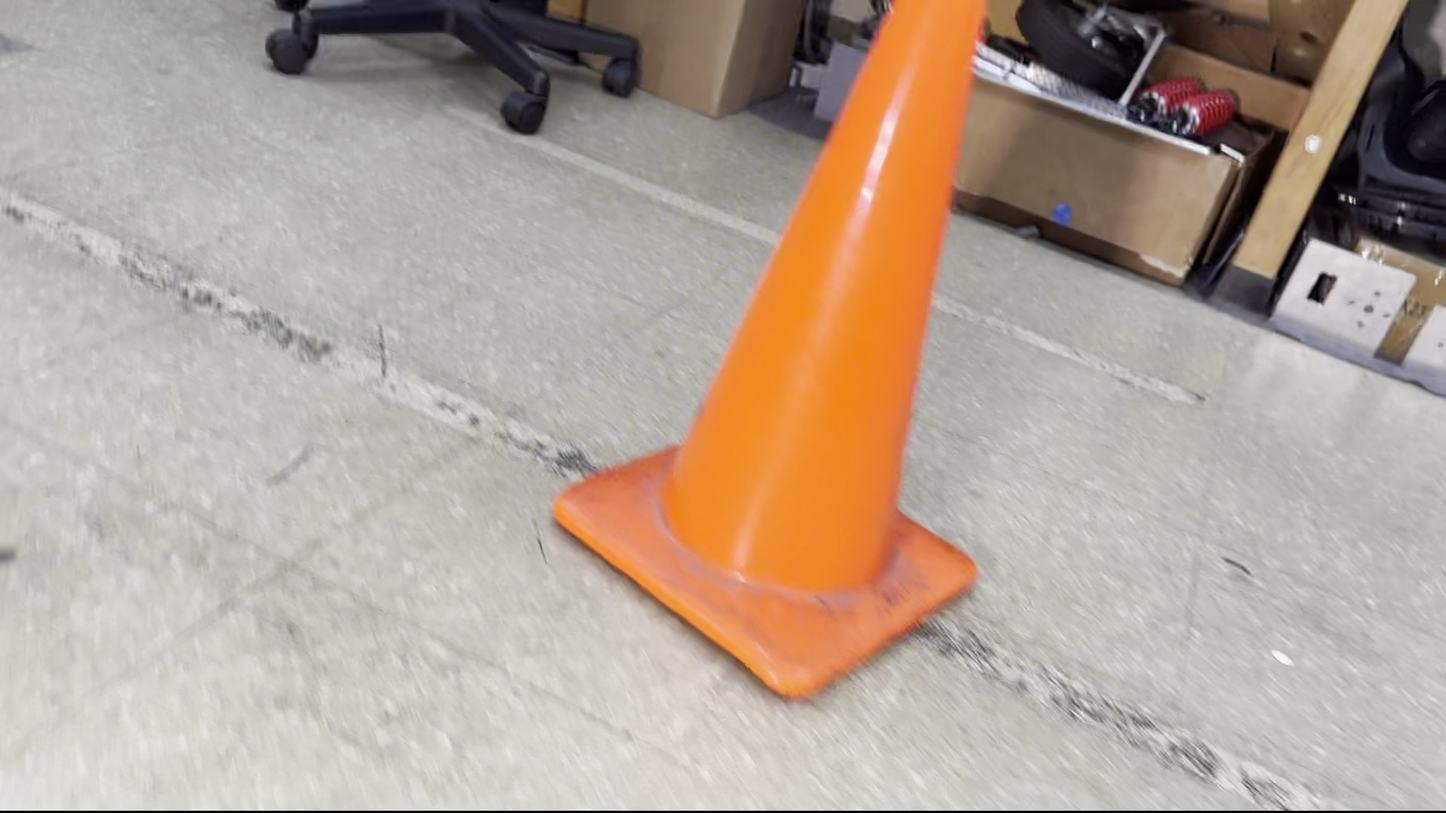traffic_cone: (551, 0, 990, 702)
